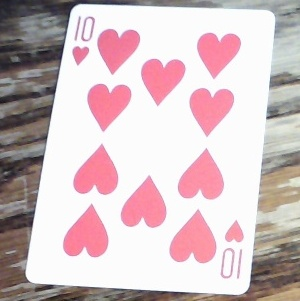card: (23, 2, 277, 299)
